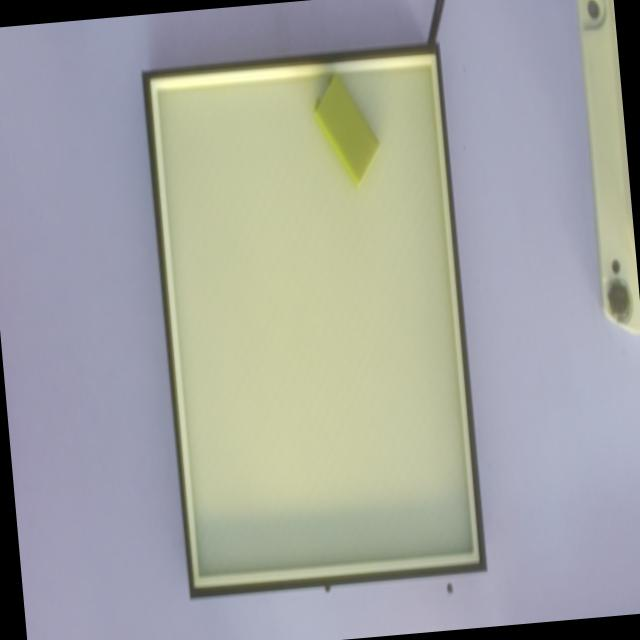bateria: (312, 72, 381, 190)
mesa: (142, 43, 487, 598)
